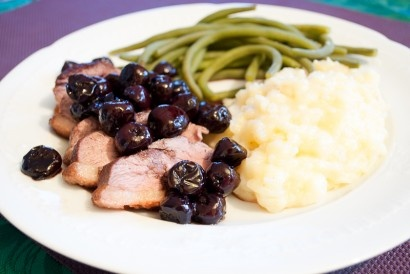background: (13, 2, 249, 96)
